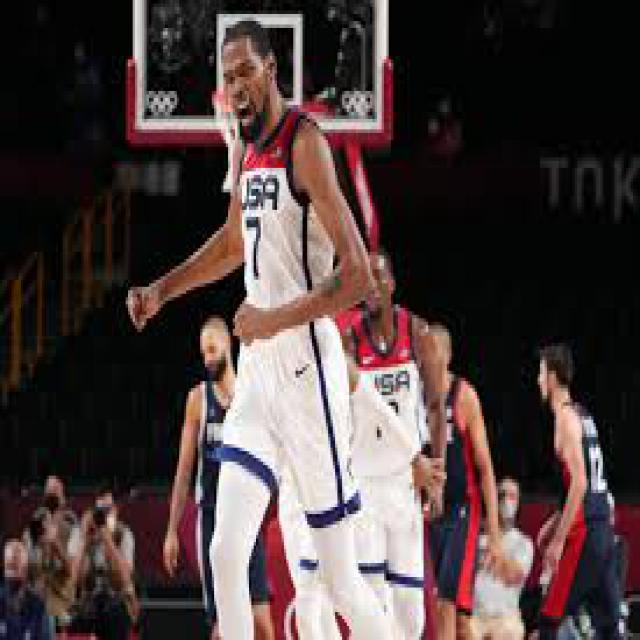rim: (210, 88, 244, 116)
